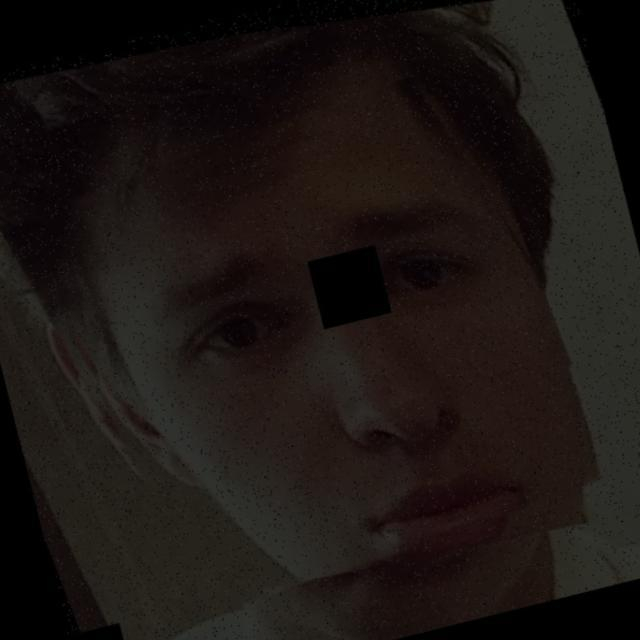Sad: (89, 107, 566, 640)
